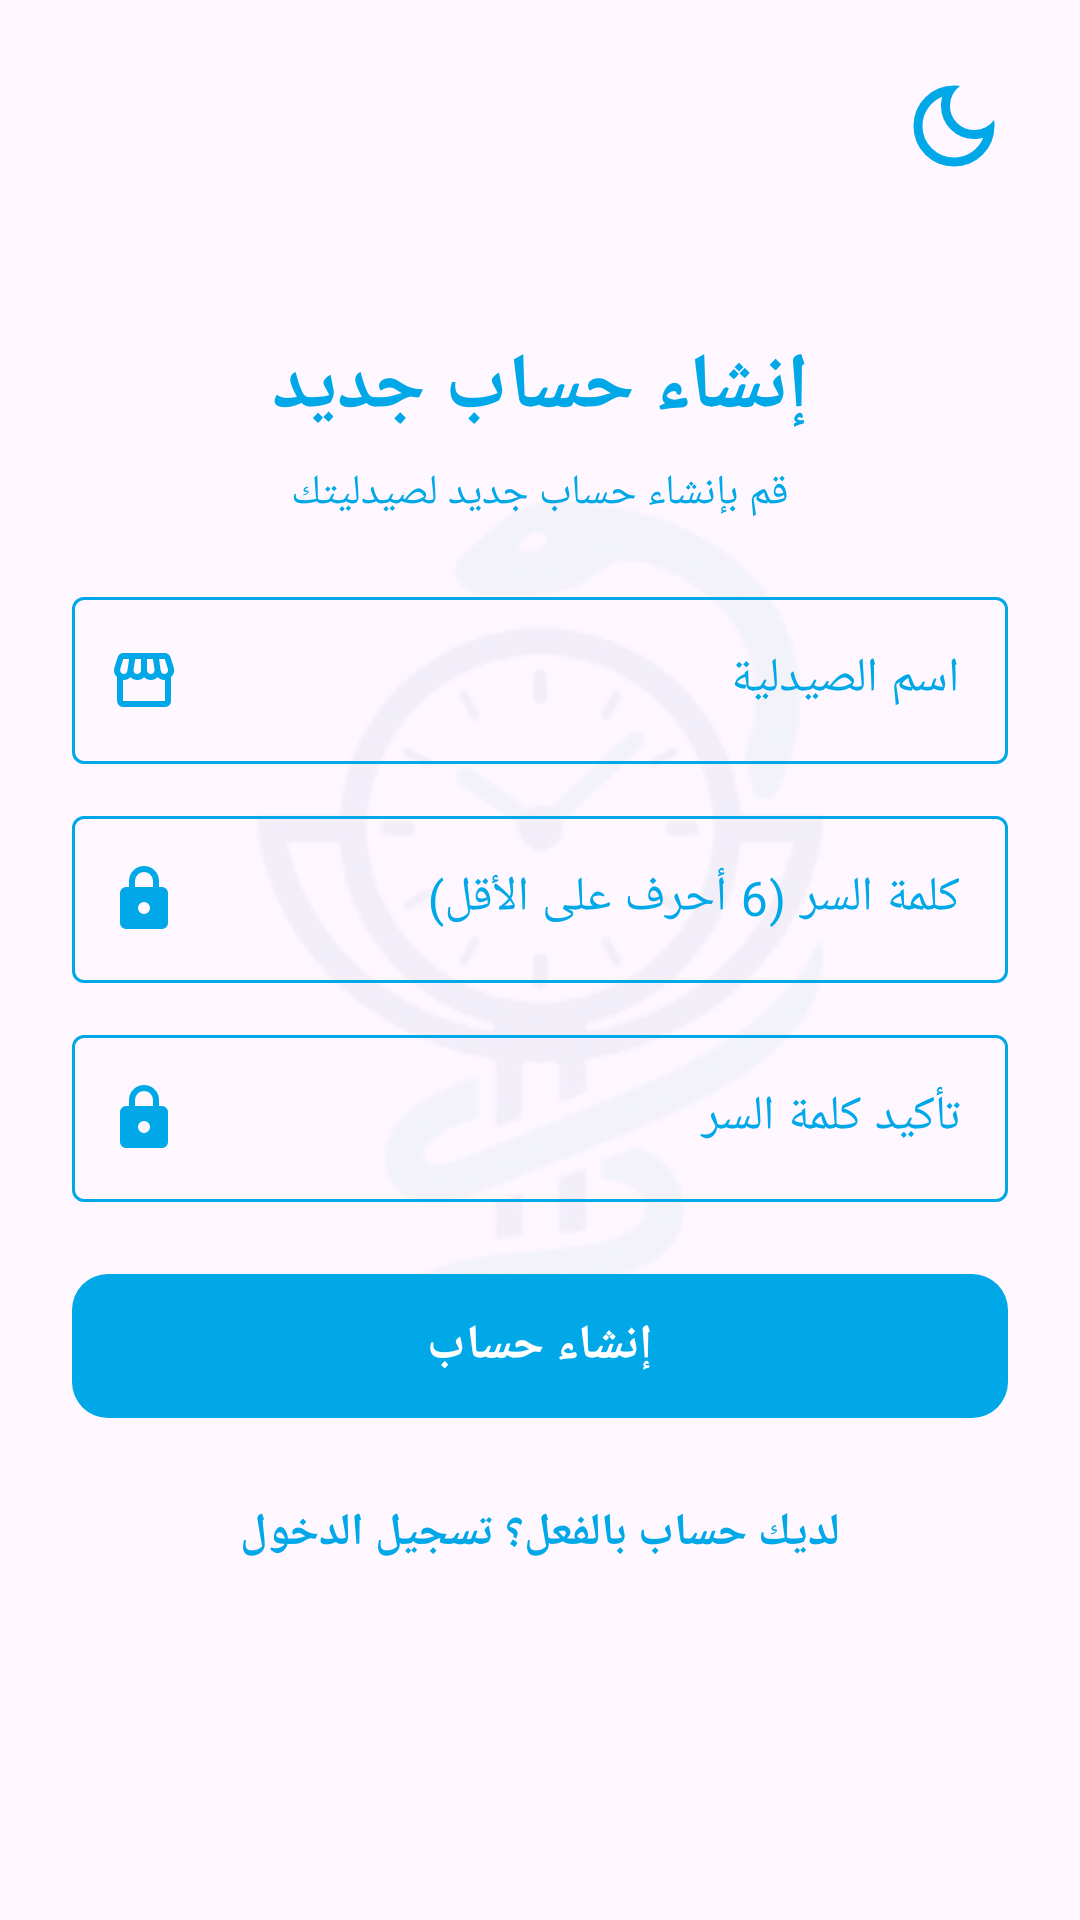

Icon bounding boxes for this 1080w x 1920h phone screenshot, format detection(x1, y1, x2, y2):
تغيير المظهر: detection(913, 85, 995, 167)
